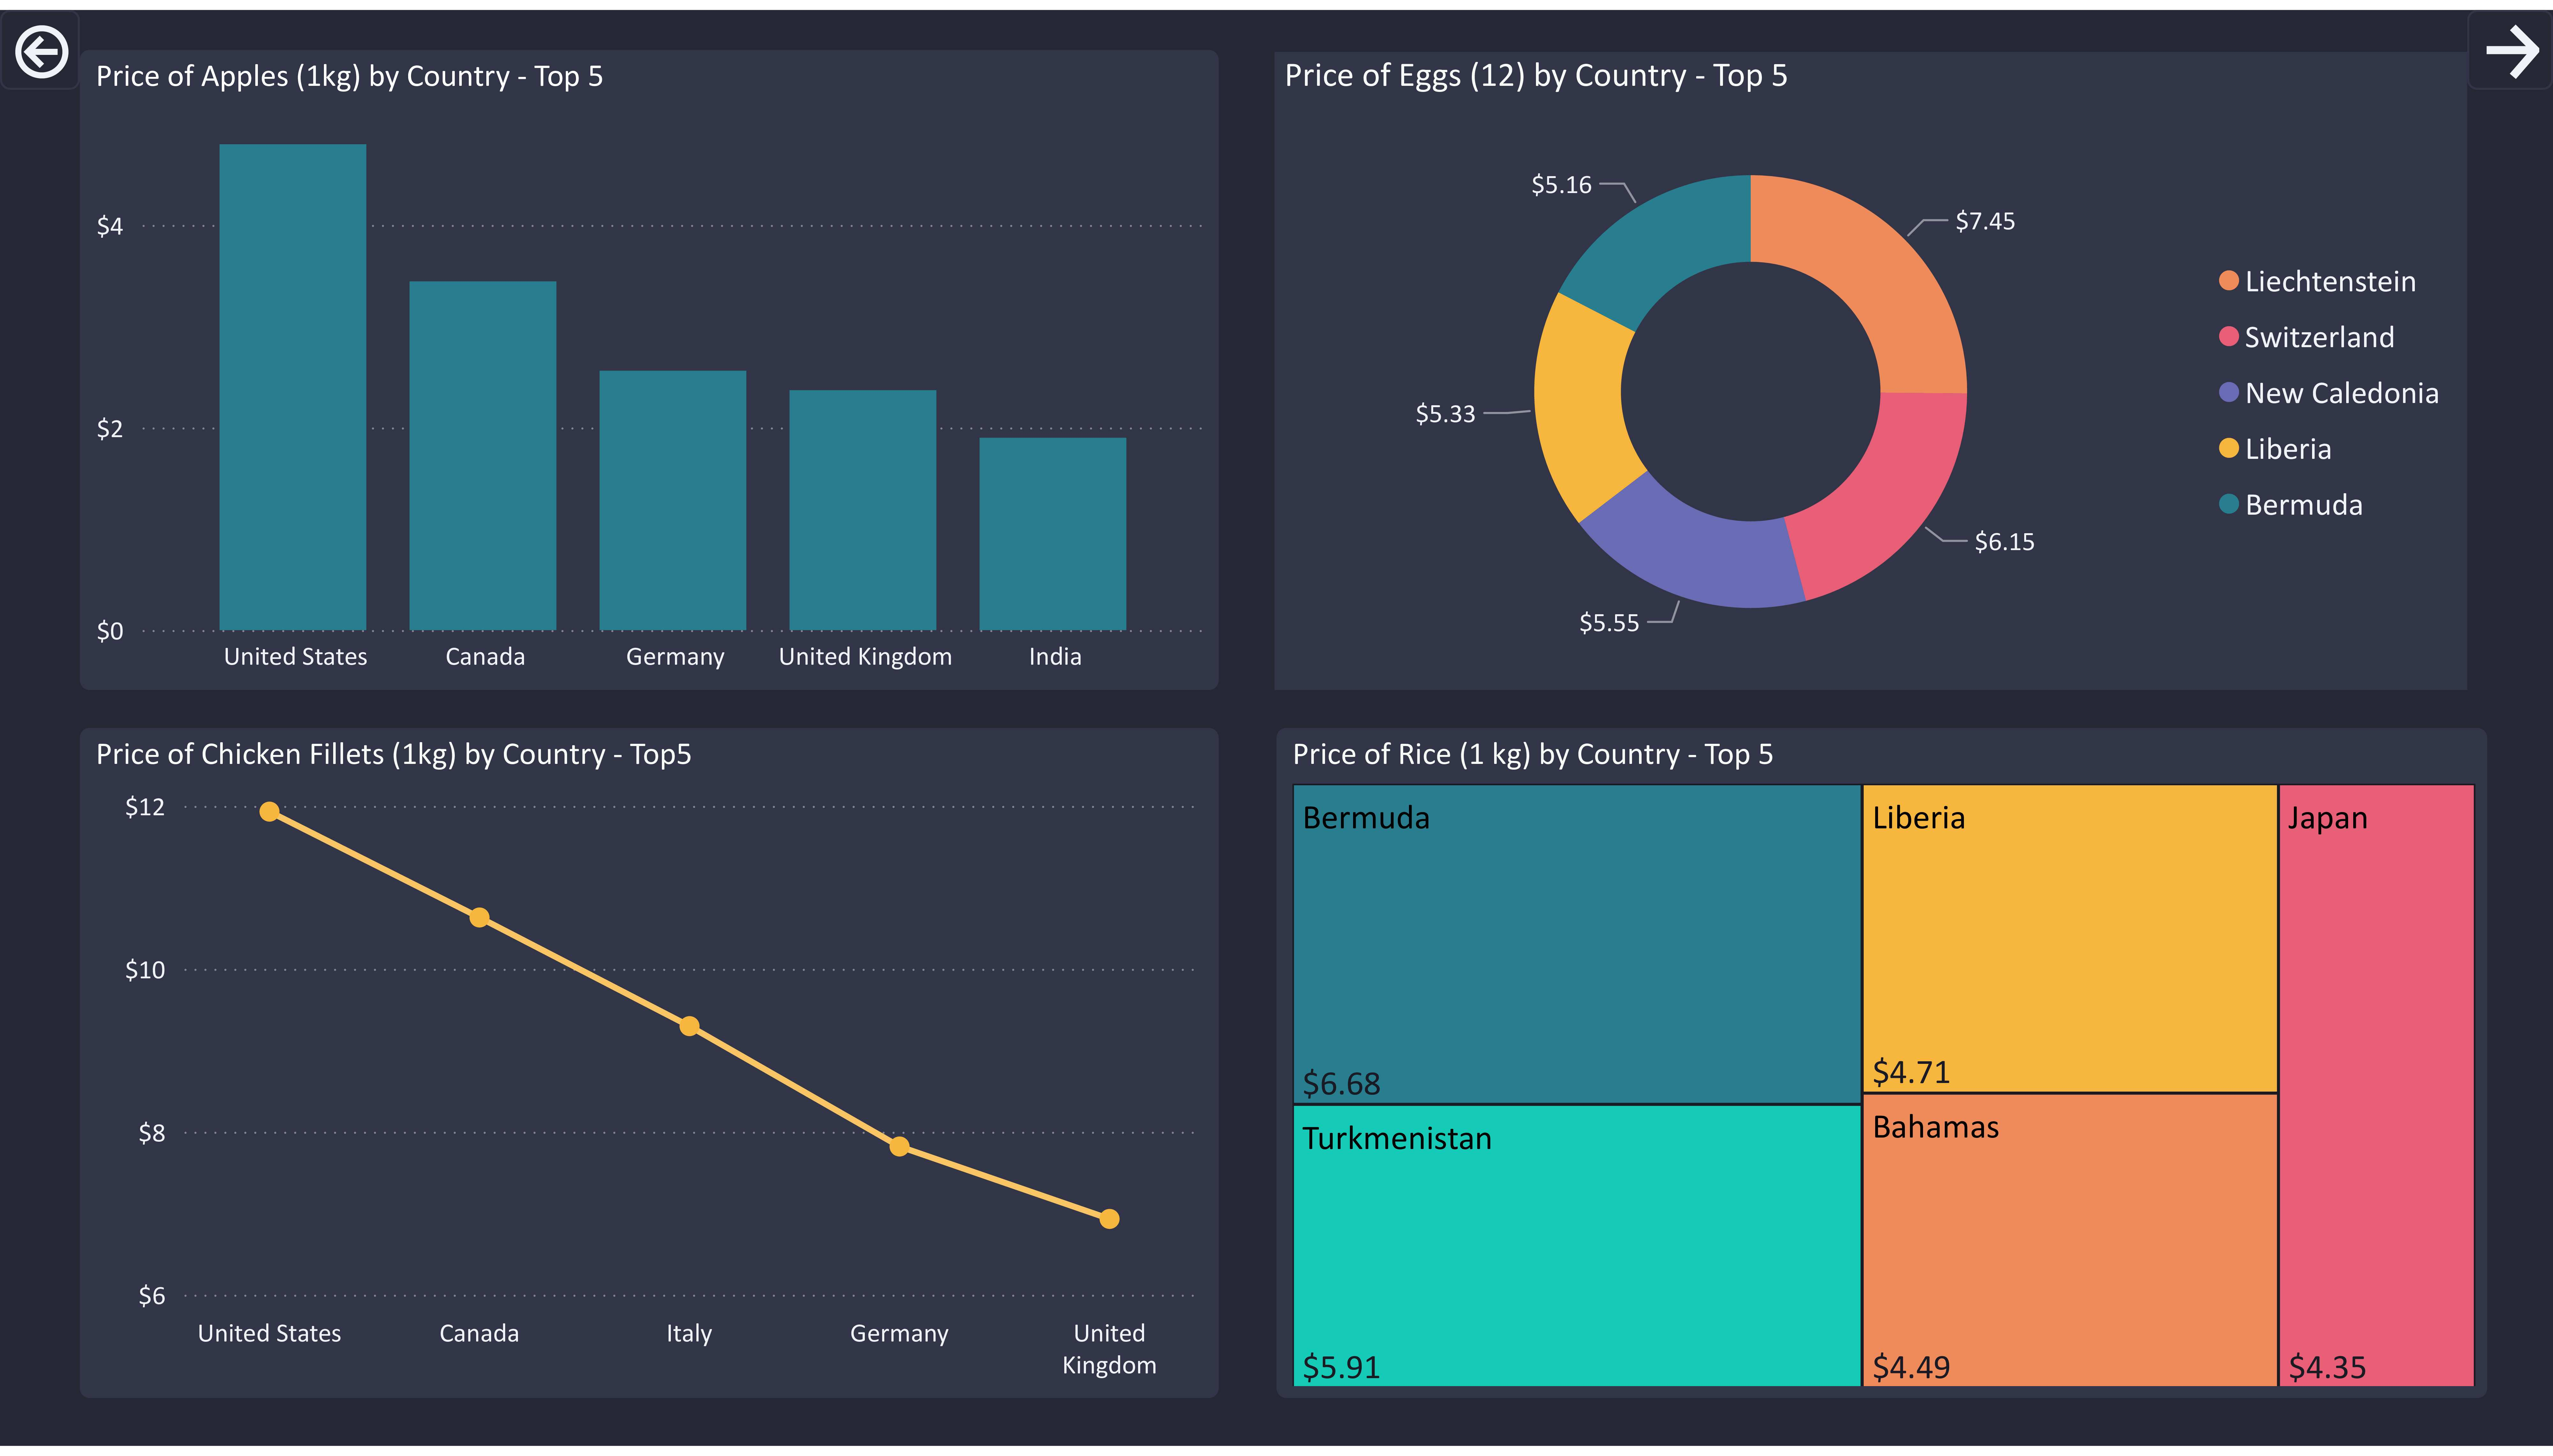

Layout of this report page (visuals, bound fields, positions):
{"tool":"powerbi","page":{"name":"Food","canvas":[1280,720],"ordinal":1},"visuals":[{"type":"columnChart","title":"Price of Apples (1kg) by Country - Top 5","fields":{"Category":["cost-of-living_v2.country"],"Y":["cost-of-living_v2.Apples (1kg) (USD)"]},"box":[40,20,571.4,321.4],"z":0},{"type":"lineChart","title":"Price of Chicken Fillets (1kg) by Country - Top5","fields":{"Category":["cost-of-living_v2.country"],"Y":["cost-of-living_v2.Chicken Fillets (1kg) (USD)"]},"box":[40,360,571.4,335.7],"z":1000},{"type":"donutChart","title":"Price of Eggs (12) by Country - Top 5","fields":{"Category":["cost-of-living_v2.country"],"Y":["cost-of-living_v2.Eggs (regular) (12) (USD)"]},"box":[639.4,21.2,598.5,319.7],"z":2000},{"type":"treemap","title":"Price of Rice (1 kg) by Country - Top 5 ","fields":{"Group":["cost-of-living_v2.country"],"Values":["cost-of-living_v2.Rice (white), (1kg) (USD)"]},"box":[640,359.8,607,336.5],"z":3000},{"type":"actionButton","box":[0,0,40,40],"z":4000},{"type":"actionButton","box":[1237.1,0,42.9,40],"z":5000}]}

Visuals, with their boxes in screenshot pixels (x1, y1, x2, y2), scaled from the page's 1280x720 canvas onto the 2553x1456 screenshot:
"Price of Apples (1kg) by Country - Top 5" columnChart: x1=80 y1=41 x2=1219 y2=691
"Price of Chicken Fillets (1kg) by Country - Top5" lineChart: x1=80 y1=728 x2=1219 y2=1407
"Price of Eggs (12) by Country - Top 5" donutChart: x1=1275 y1=43 x2=2469 y2=689
"Price of Rice (1 kg) by Country - Top 5 " treemap: x1=1276 y1=728 x2=2487 y2=1408
actionButton: x1=0 y1=0 x2=80 y2=81
actionButton: x1=2467 y1=0 x2=2553 y2=81
